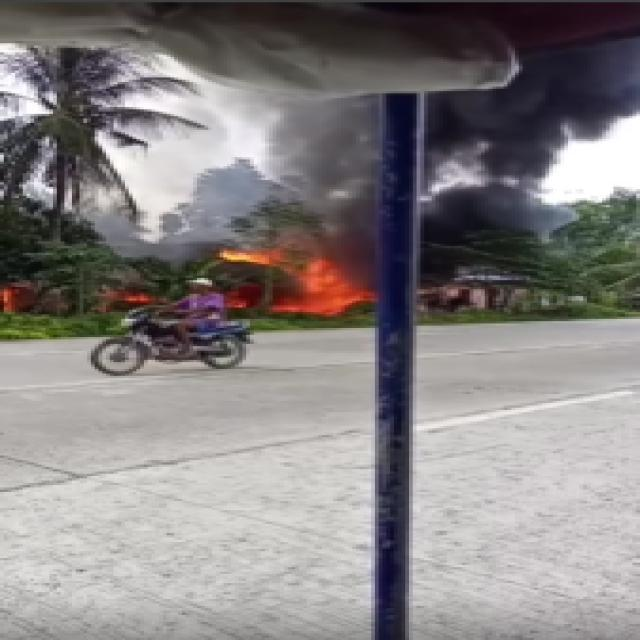Fire: (236, 248, 374, 329)
Smoke: (438, 99, 629, 264), (230, 100, 370, 252), (542, 54, 640, 151)
